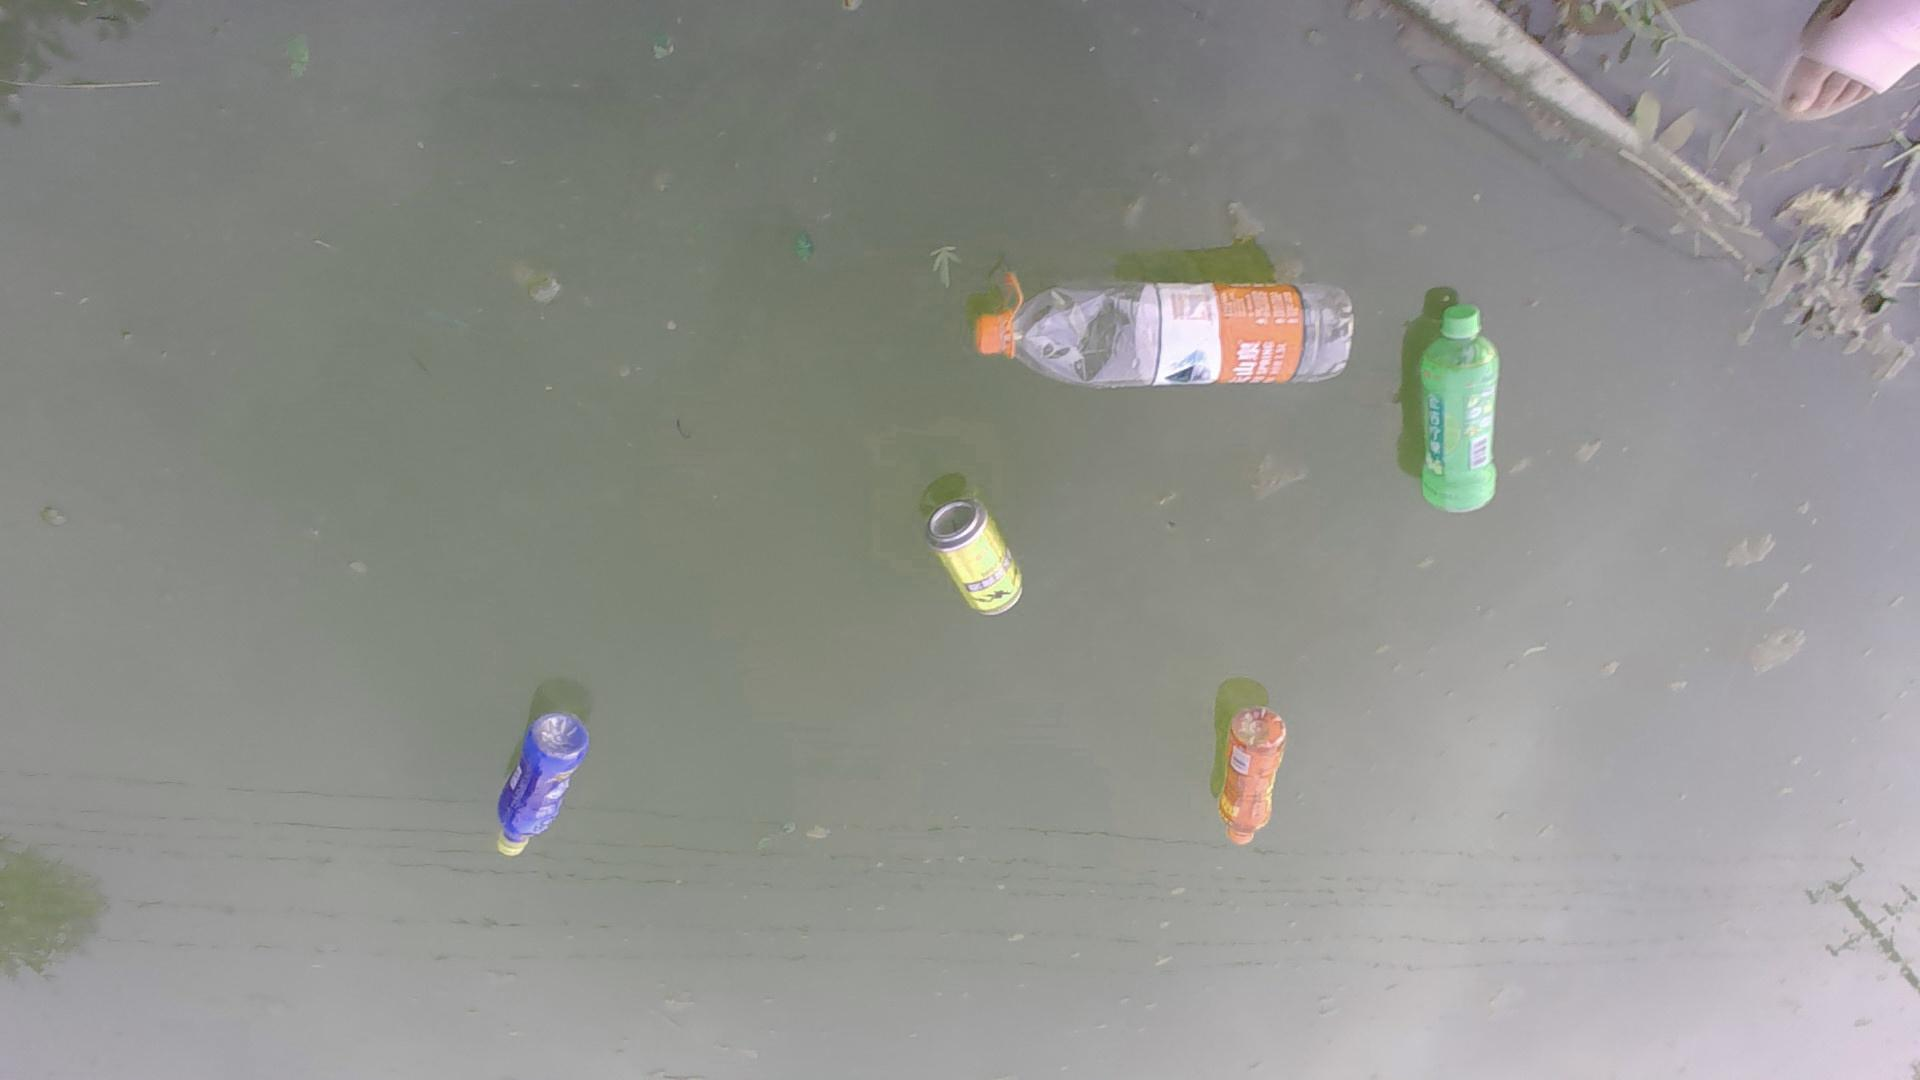Metal: (914, 496, 1031, 622)
Plastic: (963, 266, 1364, 389), (1411, 301, 1510, 522), (489, 702, 595, 872), (1203, 699, 1294, 848)
